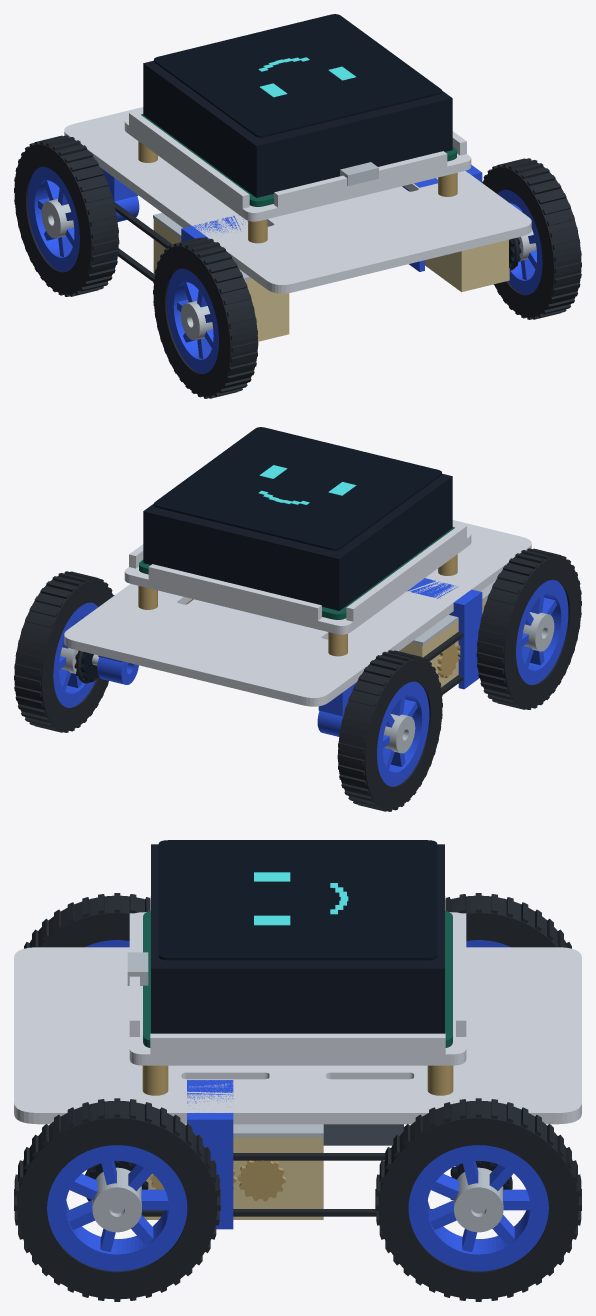
File: assembly.glb
3 views of the same model, one above another, from view 1: azimuth 30°, elevation 25°; view 2: azimuth 150°, elevation 25°; view 3: azimuth 270°, elevation 25° (orthographic). The views are drawn at different scales.
Visible parts, largest first — view 1: mosaico, chassis, wheel-left-front, wheel-left-rear, wheel-right-rear, tray, gearbox-right, gearbox-left, belt-left, bearing-left, bracket-left; view 2: mosaico, chassis, wheel-left-rear, wheel-left-front, wheel-right-front, tray, bracket-left, gearbox-left, bearing-left, bearing-right, belt-left; view 3: mosaico, chassis, wheel-right-rear, wheel-right-front, tray, gearbox-right, wheel-left-rear, wheel-left-front, bracket-right, belt-right, battery, post-1--1 (+1 smaller).
Boxes of the visible parts, x1,y1,x2,y2 form: mosaico: (141, 14, 456, 206); chassis: (64, 107, 531, 293); wheel-left-front: (14, 135, 119, 296); wheel-left-rear: (153, 237, 258, 398); wheel-right-rear: (482, 158, 581, 319); tray: (124, 111, 471, 221); gearbox-right: (425, 239, 509, 292); gearbox-left: (153, 213, 289, 341); belt-left: (113, 201, 172, 281); bearing-left: (100, 167, 139, 221); bracket-left: (181, 215, 247, 241); mosaico: (139, 427, 454, 619); chassis: (64, 520, 531, 706); wheel-left-rear: (476, 548, 581, 709); wheel-left-front: (337, 650, 442, 811); wheel-right-front: (14, 571, 114, 732); tray: (124, 524, 471, 634); bracket-left: (407, 578, 482, 689); gearbox-left: (399, 580, 495, 687); bearing-left: (317, 682, 356, 736); bearing-right: (97, 655, 138, 684); belt-left: (423, 614, 482, 694); mosaico: (127, 840, 452, 1047); chassis: (14, 947, 581, 1124); wheel-right-rear: (14, 1098, 220, 1301); wheel-right-front: (375, 1098, 581, 1301); tray: (129, 895, 466, 1065); gearbox-right: (144, 1124, 323, 1219); wheel-left-rear: (24, 893, 150, 948); wheel-left-front: (445, 893, 571, 948); bracket-right: (187, 1080, 233, 1229); belt-right: (85, 1153, 512, 1216); battery: (323, 1124, 403, 1145); post-1--1: (142, 1065, 168, 1095).
Size of the model in its own units: 0.103 by 0.0626 by 0.11.
